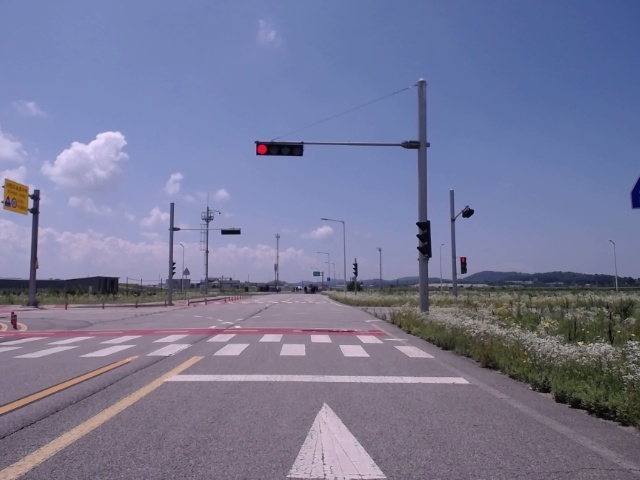red_4: (256, 143, 303, 157)
